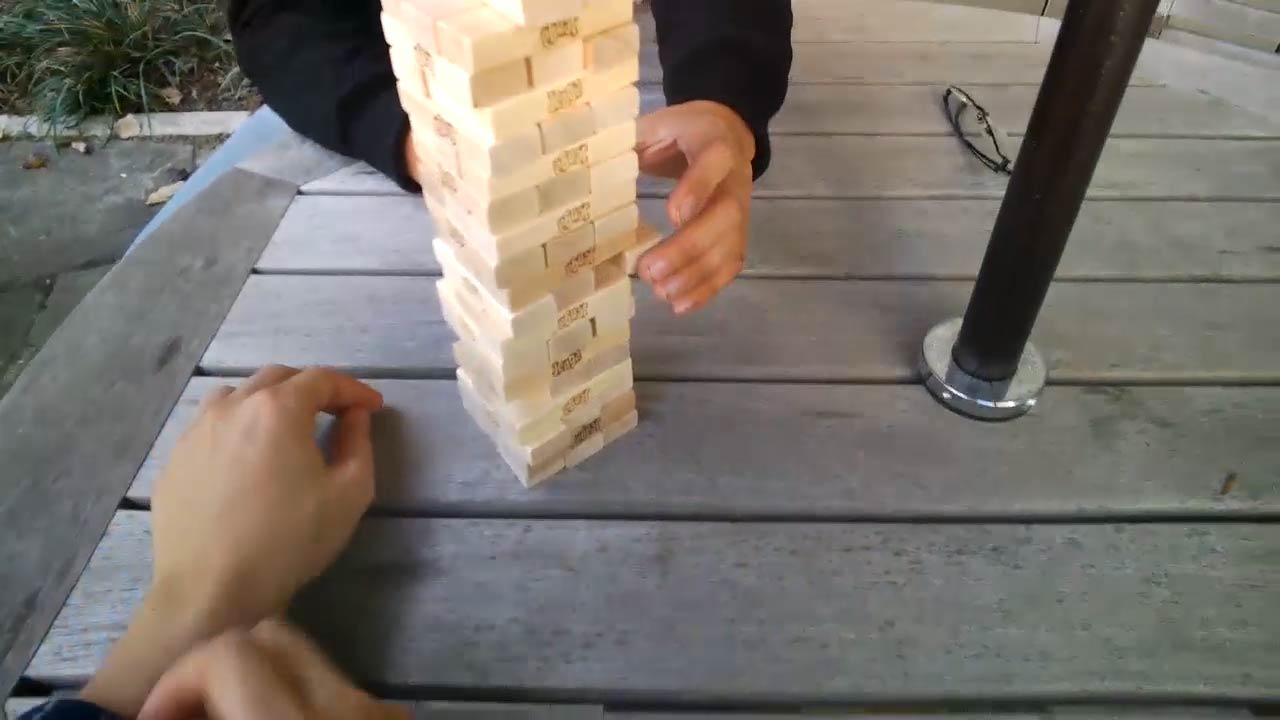hand: (141, 354, 377, 607), (132, 614, 415, 720), (637, 99, 752, 322)
